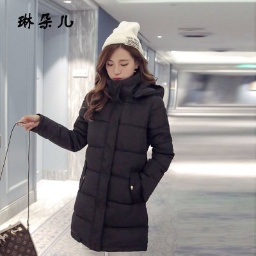face: (96, 40, 154, 97)
